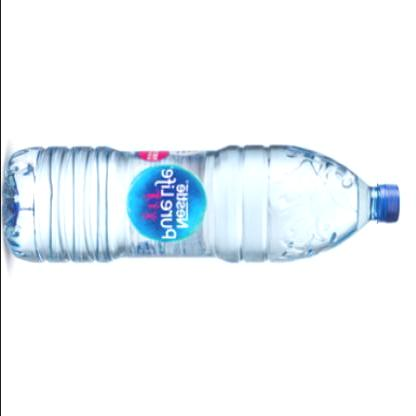bottle: (2, 142, 402, 263)
